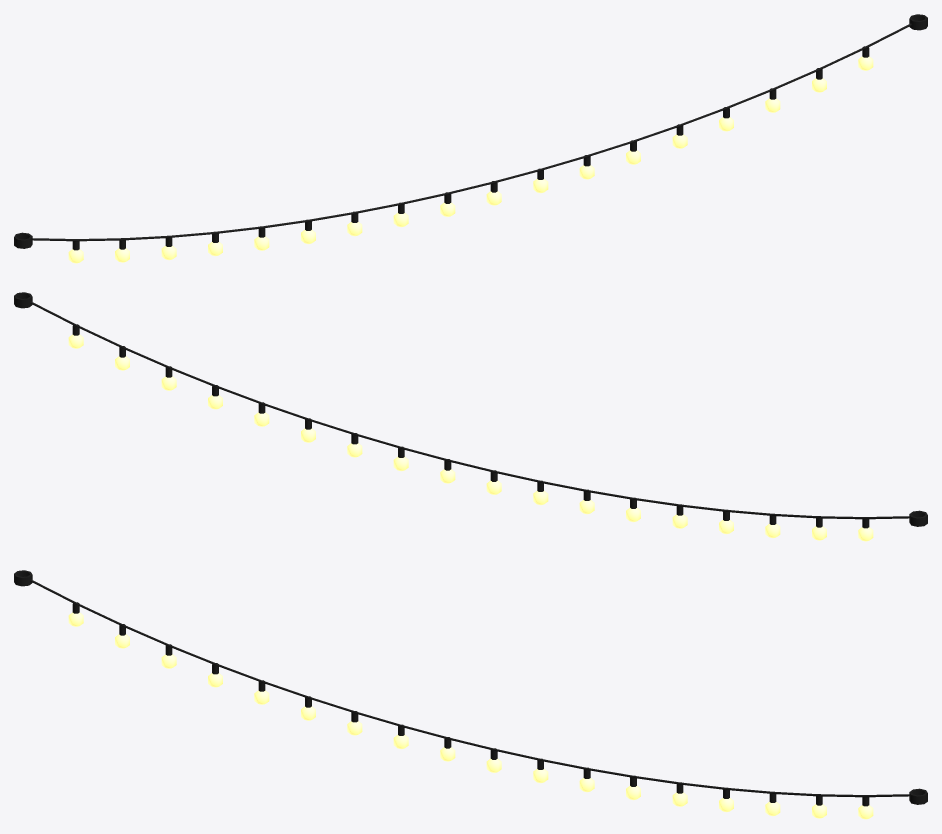
Rendered from guirnalda_luces_grande.glb.
The picture shows the model from 3 angles, top to bottom: view 1: azimuth 30°, elevation 25°; view 2: azimuth 150°, elevation 25°; view 3: azimuth 330°, elevation 25°; orthographic projection.
Parts seen in each view (by area): view 1: guirnalda_luces_grande_cuerpo, pieza_lamparitas; view 2: guirnalda_luces_grande_cuerpo, pieza_lamparitas; view 3: guirnalda_luces_grande_cuerpo, pieza_lamparitas.
Boxes of the visible parts, x1=… form: guirnalda_luces_grande_cuerpo: x1=14, y1=14, x2=927, y2=250; pieza_lamparitas: x1=68, y1=56, x2=873, y2=263; guirnalda_luces_grande_cuerpo: x1=14, y1=292, x2=927, y2=528; pieza_lamparitas: x1=68, y1=334, x2=873, y2=541; guirnalda_luces_grande_cuerpo: x1=14, y1=570, x2=927, y2=806; pieza_lamparitas: x1=68, y1=612, x2=873, y2=819.
Bounding box in the file's own units: 3.4 × 0.3 × 0.056.
